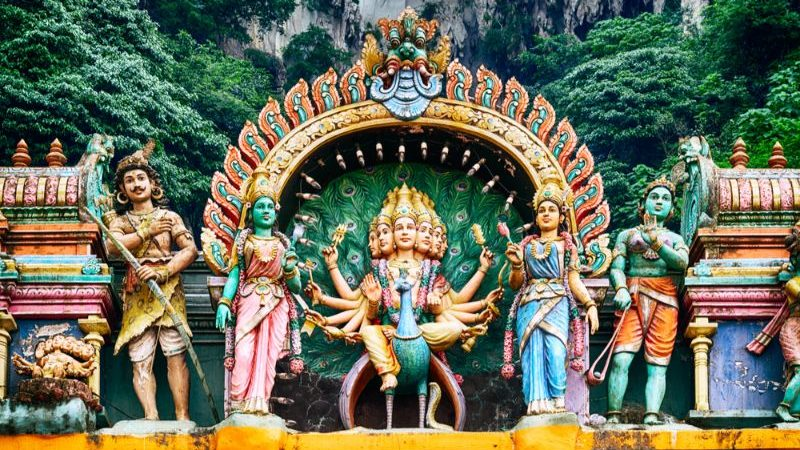Hindu Temple: (70, 23, 676, 418)
